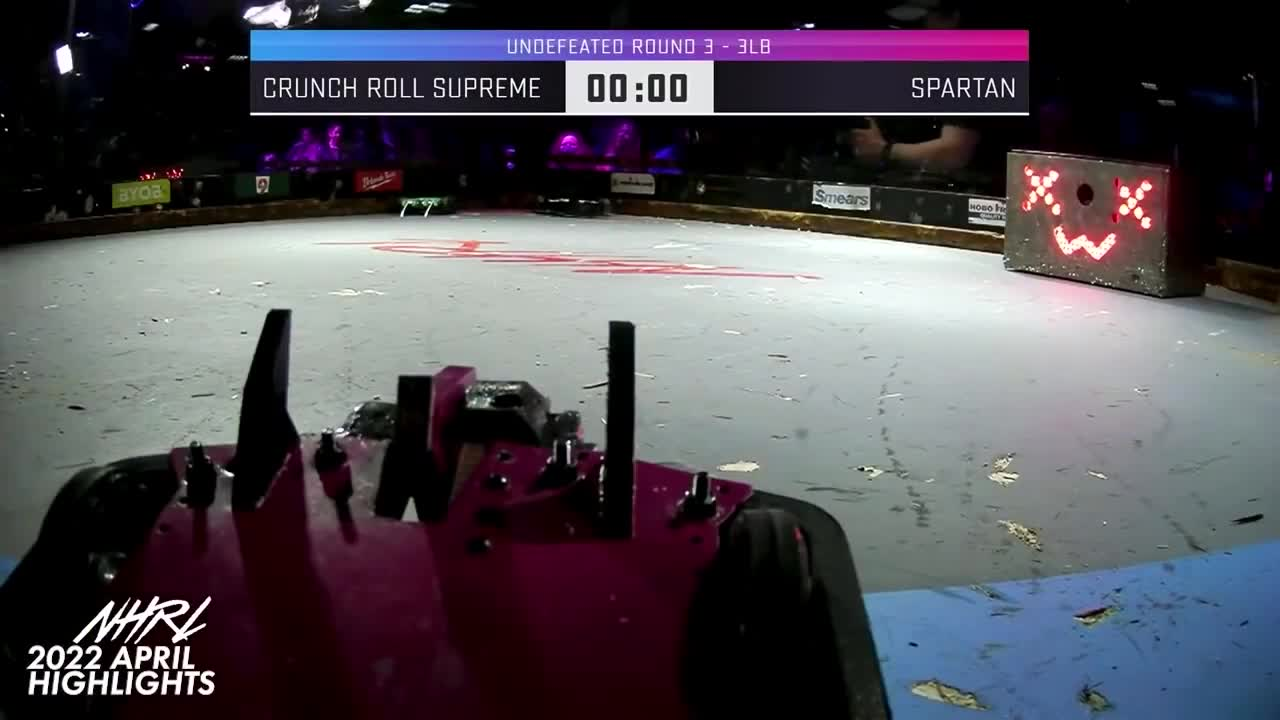combatbot: (0, 310, 893, 720), (531, 191, 612, 217), (398, 190, 450, 220)
housebot: (1003, 151, 1206, 300)
